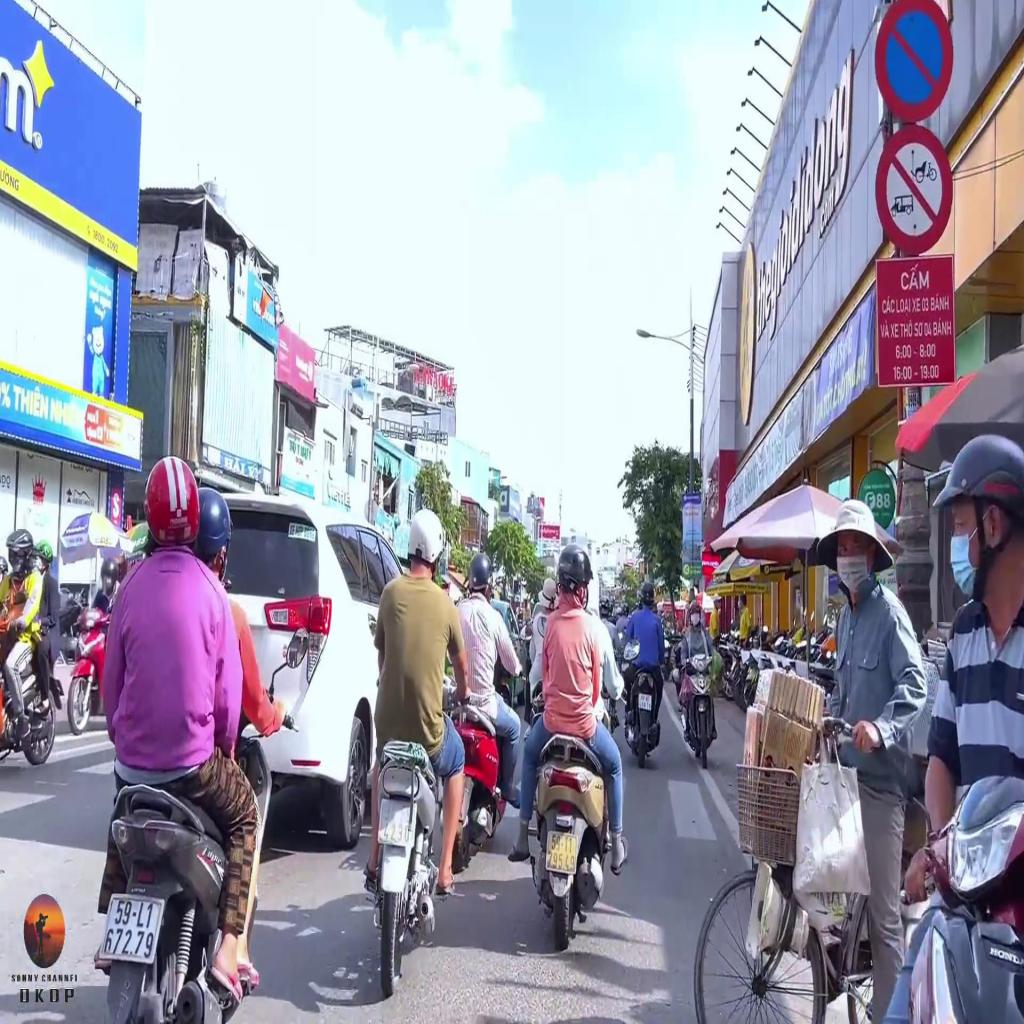cam_cac_loai_xe_3_banh: (874, 125, 954, 258)
cam_do_xe: (874, 1, 954, 123)
